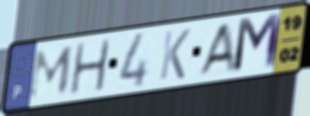4: (117, 31, 152, 90)
A: (194, 20, 238, 80)
H: (66, 37, 112, 97)
K: (157, 27, 193, 82)
M: (230, 11, 285, 77), (26, 44, 77, 102)
